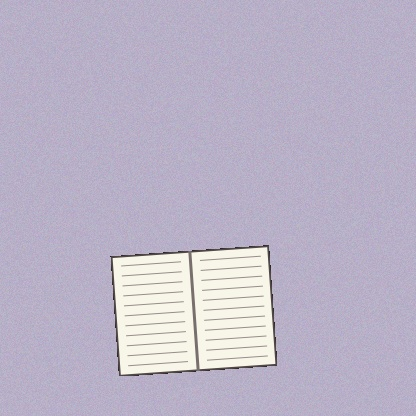book: (110, 245, 277, 376)
